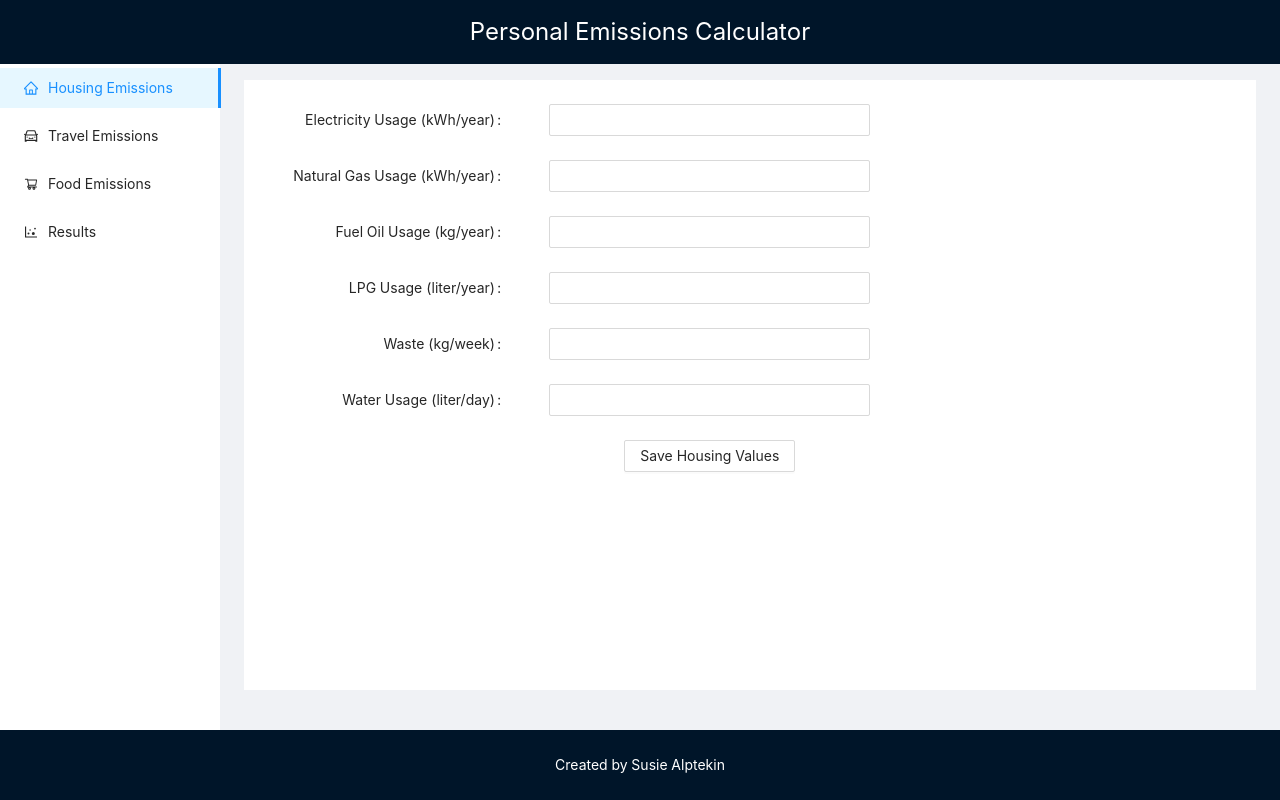
Test: menu navigation results
// click on results and validate form text
What coordinates should you click on to do the following:
click the menu item "Results"
I would click on:
 (60, 232)
Its box is x1=24 y1=223 x2=96 y2=240.
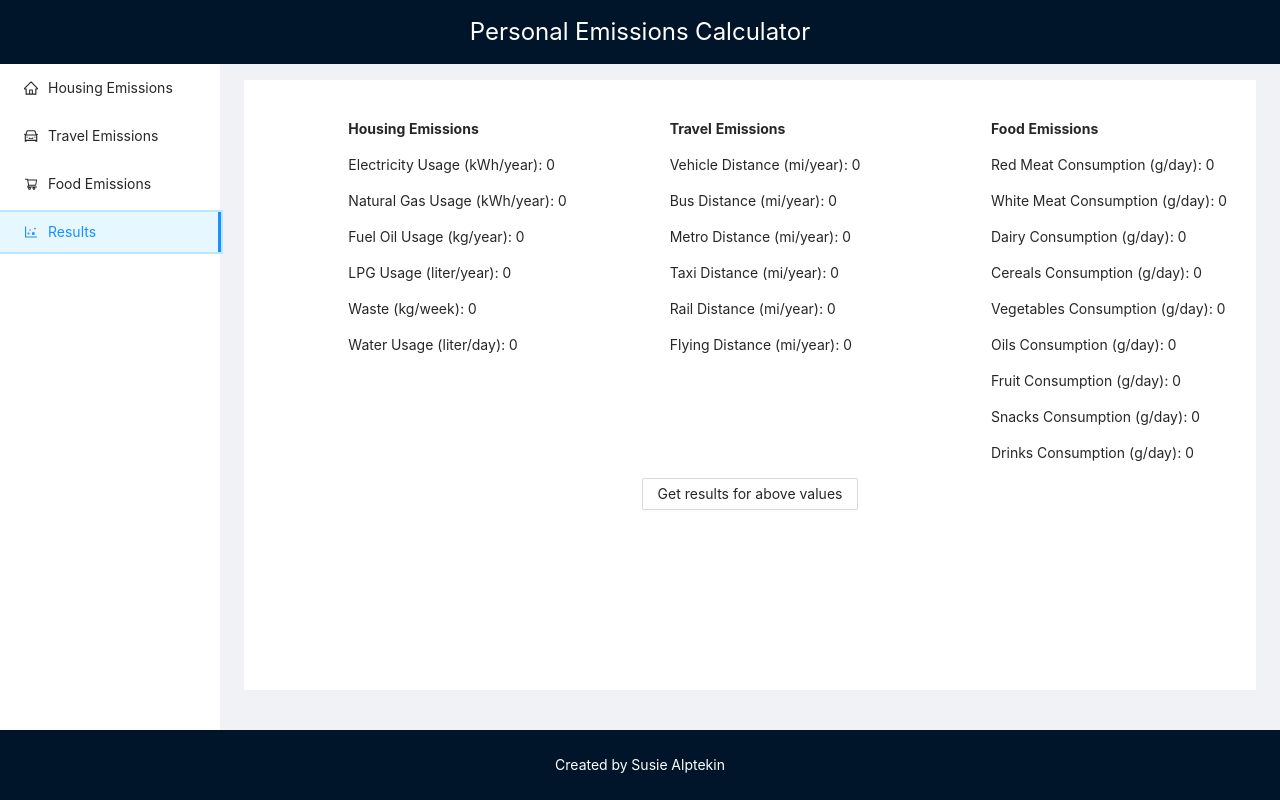
Expected: the text "Electricity Usage (kWh/year): 0" is shown 21 times
